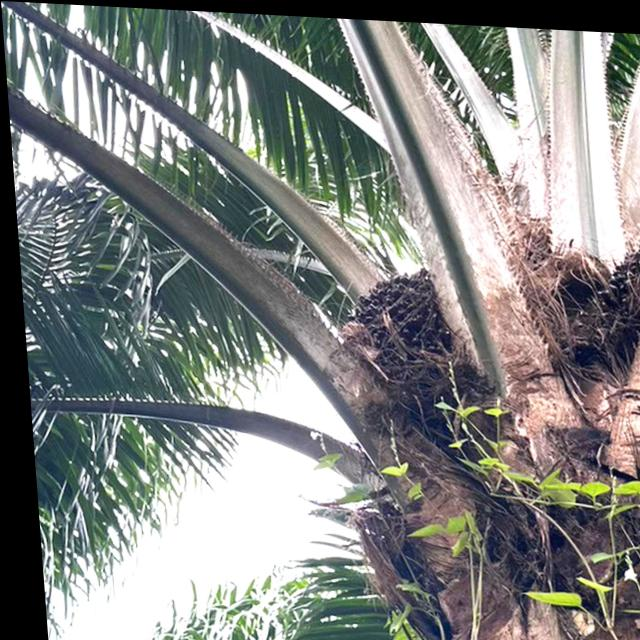ripe: (331, 254, 437, 358)
